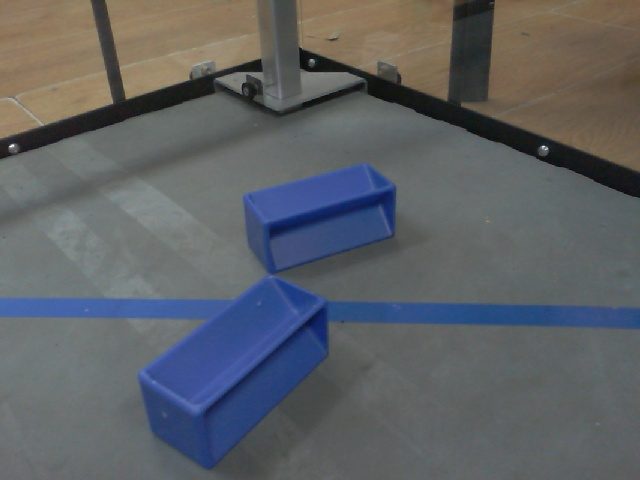BlueSample: (131, 272, 330, 469), (239, 161, 400, 277)
